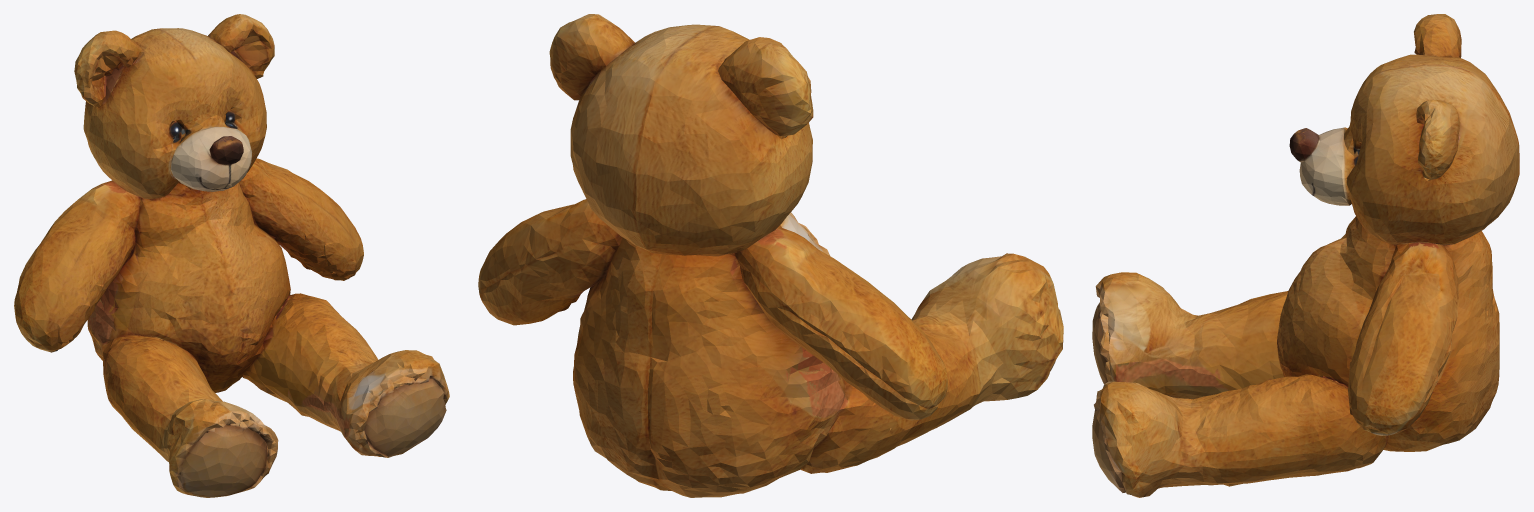
3 renders of one model, left to right at view 1: azimuth 30°, elevation 25°; view 2: azimuth 150°, elevation 25°; view 3: azimuth 270°, elevation 25°, orthographic. The views are drawn at different scales.
Visible parts, largest first — view 1: texture; view 2: texture; view 3: texture.
Boxes of the visible parts, <box> form: texture: <box>14,14,449,497</box>; texture: <box>478,14,1063,497</box>; texture: <box>1092,14,1519,497</box>.
Size of the model in its own units: 1.99 by 1.99 by 1.96.
1 material, 1 textured.
